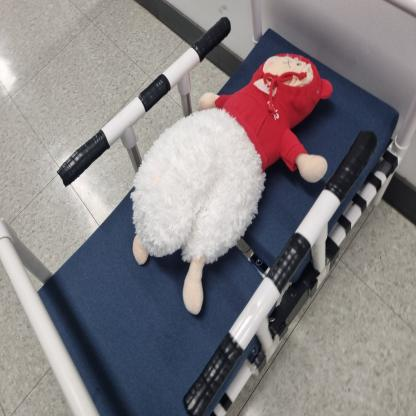yp: (3, 26, 402, 388)
